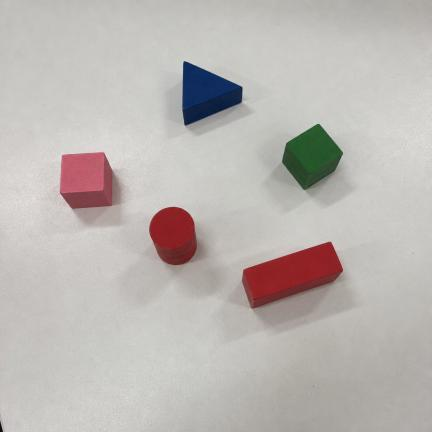BuildingBlocks: (243, 243, 342, 307), (283, 125, 342, 189), (183, 62, 242, 124), (61, 153, 112, 208), (150, 207, 197, 264)
